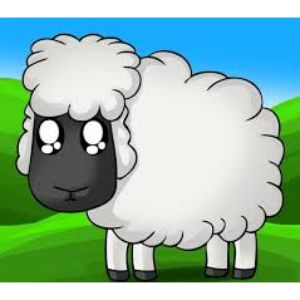sheep: (15, 27, 285, 280)
